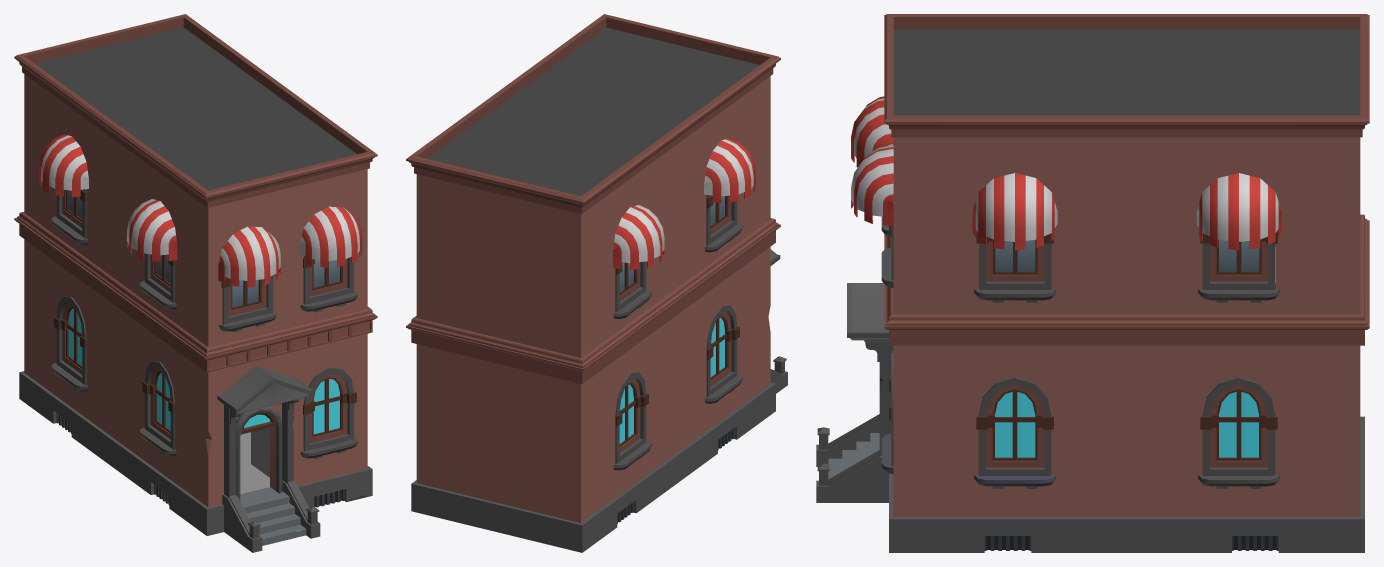
File: SM_Buildings_House_02_V1.fbx
3 renders of one model, left to right at view 1: azimuth 30°, elevation 25°; view 2: azimuth 150°, elevation 25°; view 3: azimuth 270°, elevation 25°, orthographic. The views are drawn at different scales.
Visible parts, largest first — view 1: SM_Buildings_House_02_V1; view 2: SM_Buildings_House_02_V1; view 3: SM_Buildings_House_02_V1.
Boxes of the visible parts, left/top/right/bottom form: SM_Buildings_House_02_V1: left=14, top=14, right=377, bottom=552; SM_Buildings_House_02_V1: left=406, top=14, right=787, bottom=552; SM_Buildings_House_02_V1: left=816, top=14, right=1369, bottom=552.
Size of the model in its own units: 6.82 by 10.3 by 11.86.
